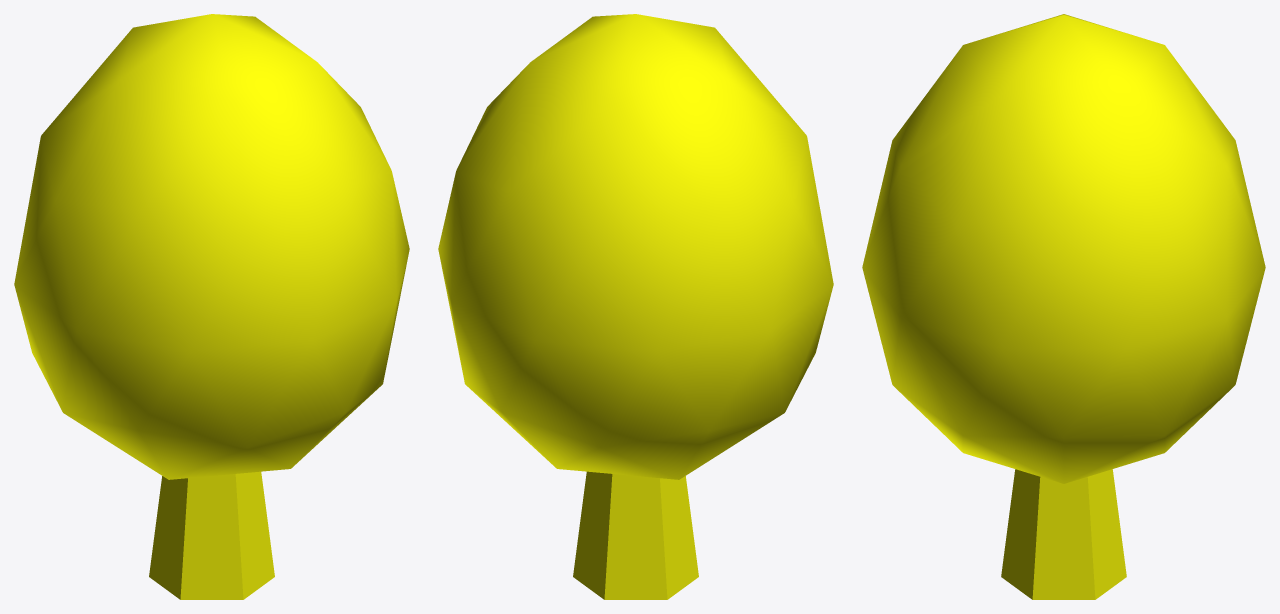
Rendered from Cay 1.004.gltf.
3 renders of one model, left to right at view 1: azimuth 30°, elevation 25°; view 2: azimuth 150°, elevation 25°; view 3: azimuth 270°, elevation 25°, orthographic.
Parts seen in each view (by area): view 1: Cay 1.004; view 2: Cay 1.004; view 3: Cay 1.004.
Boxes of the visible parts, x1,y1,x2,y2 form: Cay 1.004: (14,14,409,599); Cay 1.004: (438,14,833,599); Cay 1.004: (862,14,1265,599).
Bounding box in the file's own units: 5.93 × 9.58 × 6.24.
1 material, 1 textured.
